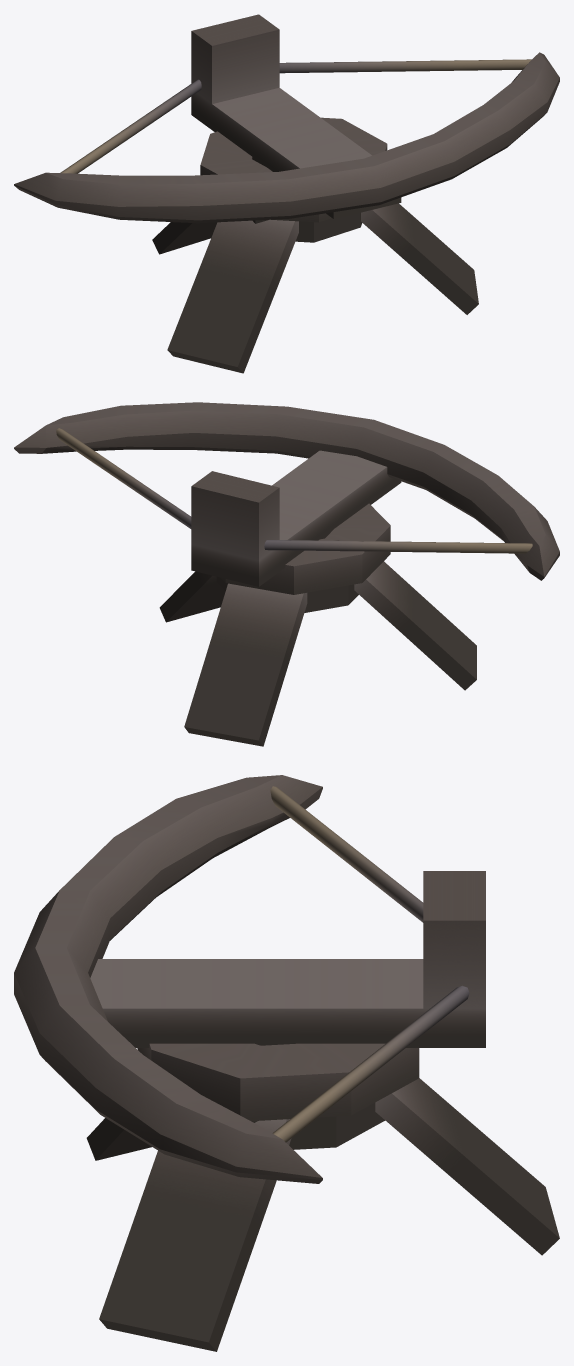
File: Trap_Turret.fbx
3 views of the same model, one above another, from view 1: azimuth 30°, elevation 25°; view 2: azimuth 150°, elevation 25°; view 3: azimuth 270°, elevation 25° (orthographic). The views are drawn at different scales.
Visible parts, largest first — view 1: pCube41; view 2: pCube41; view 3: pCube41.
Part boxes in pixels (x1,y1,x2,y2): pCube41: (14,14,559,373); pCube41: (14,402,559,746); pCube41: (14,775,559,1351).
Bounding box in the file's own units: 3.77 × 1.56 × 2.22.
